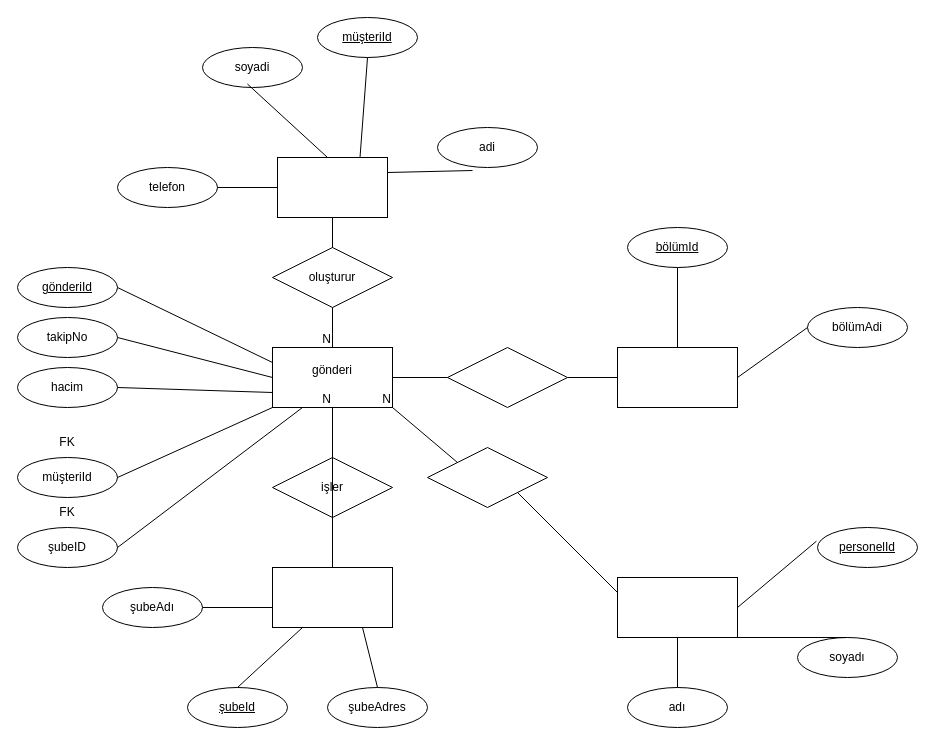
This 935x745 diagram has some shape labels left out. Here are the shapes that lost their labels. From the top down, the centre of each, then its label:
At (x=332, y=187): "müşteri".
At (x=507, y=377): "vardır".
At (x=677, y=377): "kargoDurumu".
At (x=487, y=477): "taşır".
At (x=332, y=597): "şube".
At (x=677, y=607): "personel".
